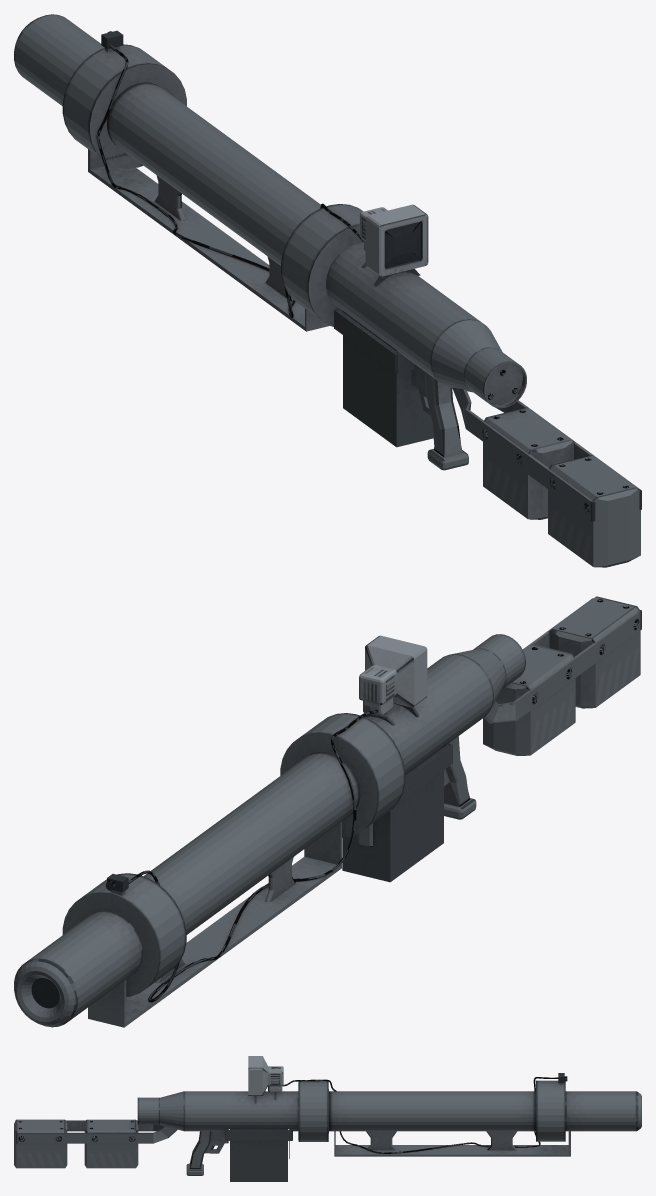
File: guided_launcher.glb
The picture shows the model from 3 angles, top to bottom: view 1: azimuth 30°, elevation 25°; view 2: azimuth 150°, elevation 25°; view 3: azimuth 270°, elevation 25°; orthographic projection. The views are drawn at different scales.
Parts seen in each view (by area): view 1: guided_launcher, InsertedAmmo; view 2: guided_launcher, InsertedAmmo; view 3: guided_launcher, InsertedAmmo.
Boxes of the visible parts, x1=… form: guided_launcher: x1=14, y1=14, x2=641, y2=567; InsertedAmmo: x1=343, y1=311, x2=433, y2=447; guided_launcher: x1=14, y1=596, x2=641, y2=1027; InsertedAmmo: x1=342, y1=746, x2=443, y2=882; guided_launcher: x1=14, y1=1056, x2=641, y2=1175; InsertedAmmo: x1=230, y1=1129, x2=287, y2=1181.
Bounding box in the file's own units: 0.1312 × 0.2694 × 1.35.
1 material, 1 textured.
